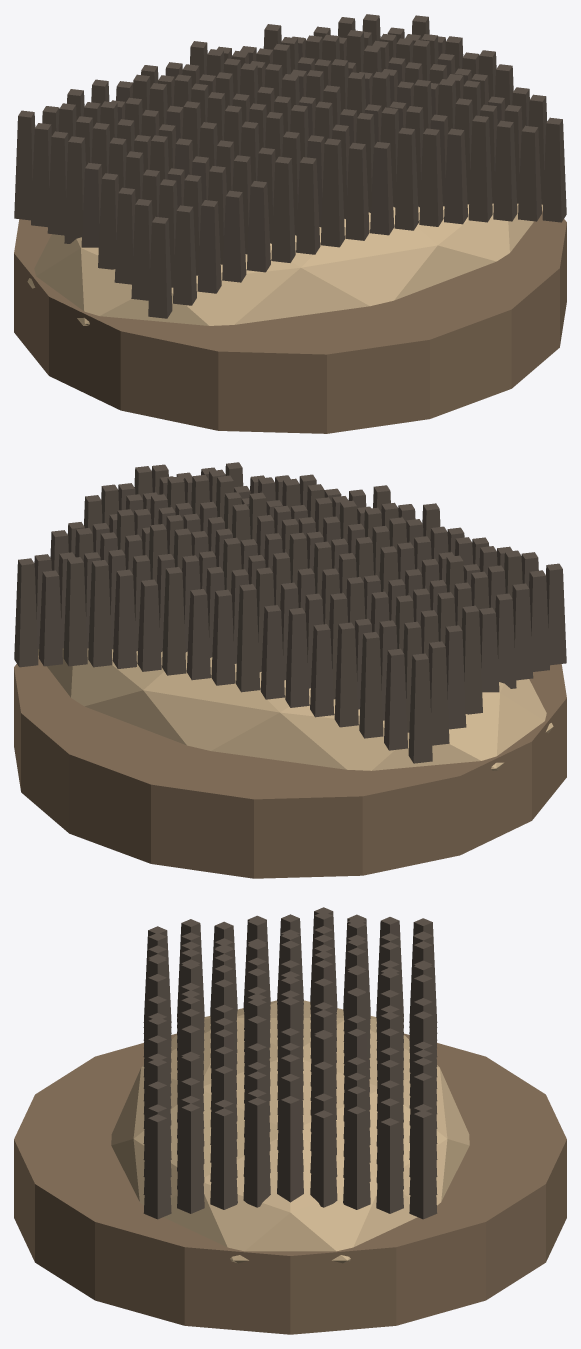
The model's file is dandy_brush.glb.
3 renders of one model, top to bottom at view 1: azimuth 30°, elevation 25°; view 2: azimuth 150°, elevation 25°; view 3: azimuth 270°, elevation 25°, orthographic.
Parts seen in each view (by area): view 1: dandy_brush; view 2: dandy_brush; view 3: dandy_brush.
Boxes of the visible parts, bbox=[...] form: dandy_brush: bbox=[14, 14, 566, 433]; dandy_brush: bbox=[14, 462, 566, 878]; dandy_brush: bbox=[14, 907, 566, 1334].
Bounding box in the file's own units: 0.1274 × 0.0669 × 0.1274.
